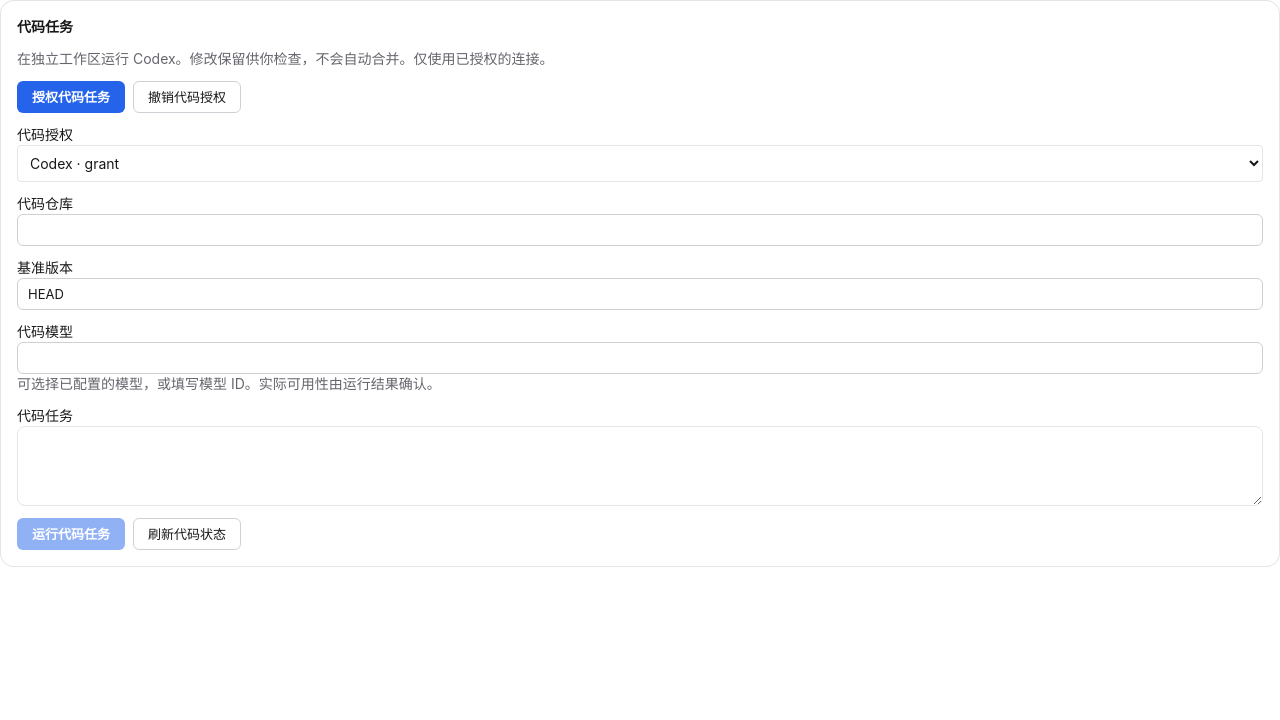
shows actionable rejection for agents.access_denied without claiming a task exists
The width and height of the screenshot is (1280, 720).
Type "/tmp/example" into the field labelled "代码仓库" at (640, 230), box [17,214,1263,246]
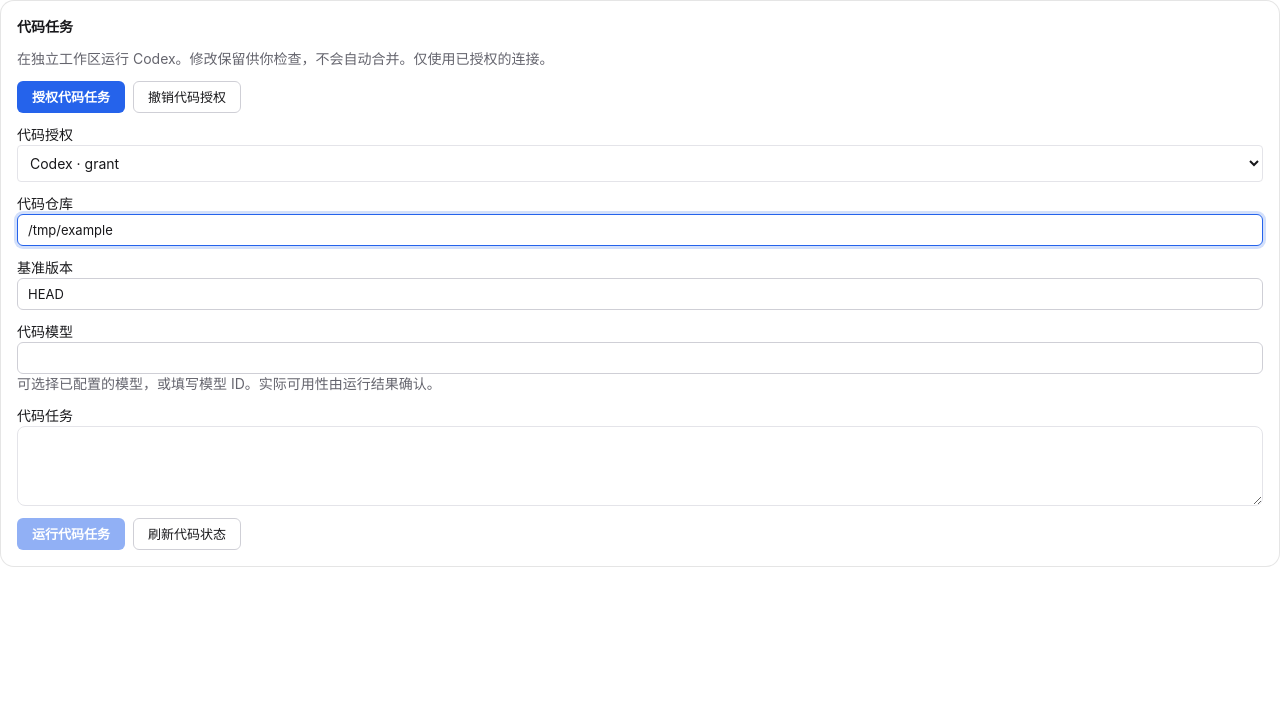
Type "Fix" into the text box labelled "代码任务" at (640, 466), box [17,426,1263,506]
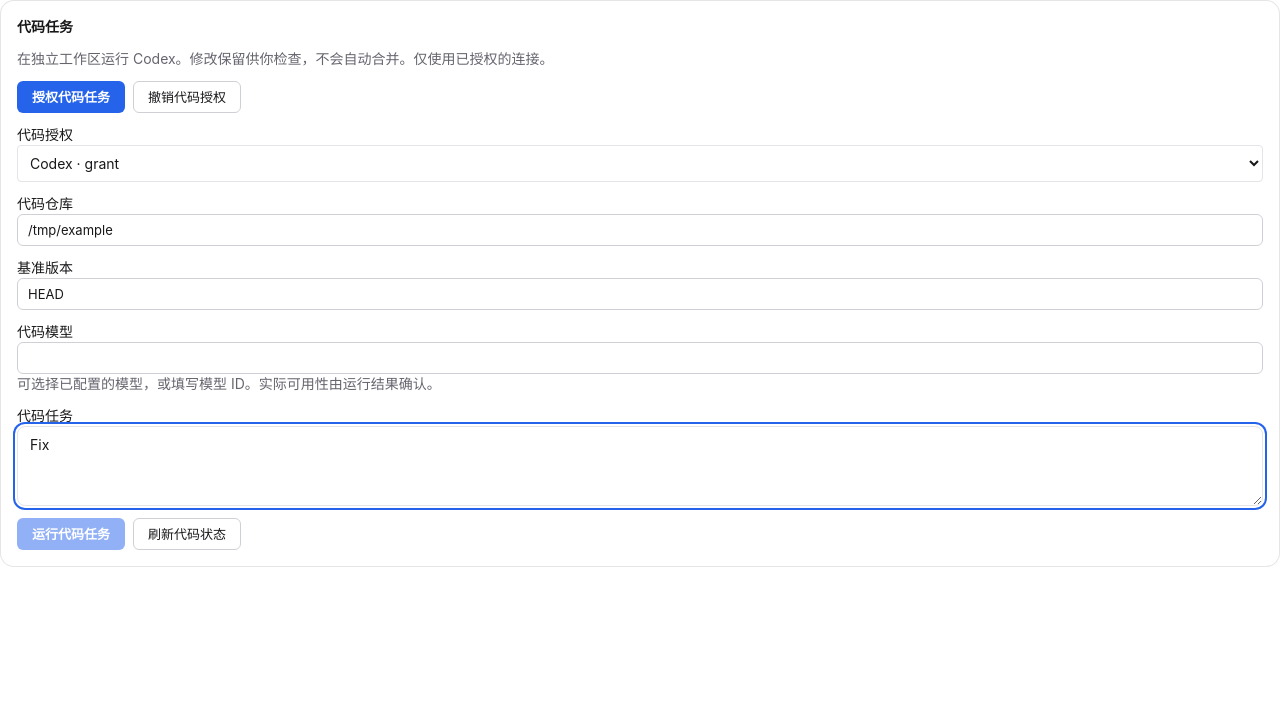
Type "test-model" into the field labelled "代码模型" at (640, 358), box [17,342,1263,374]
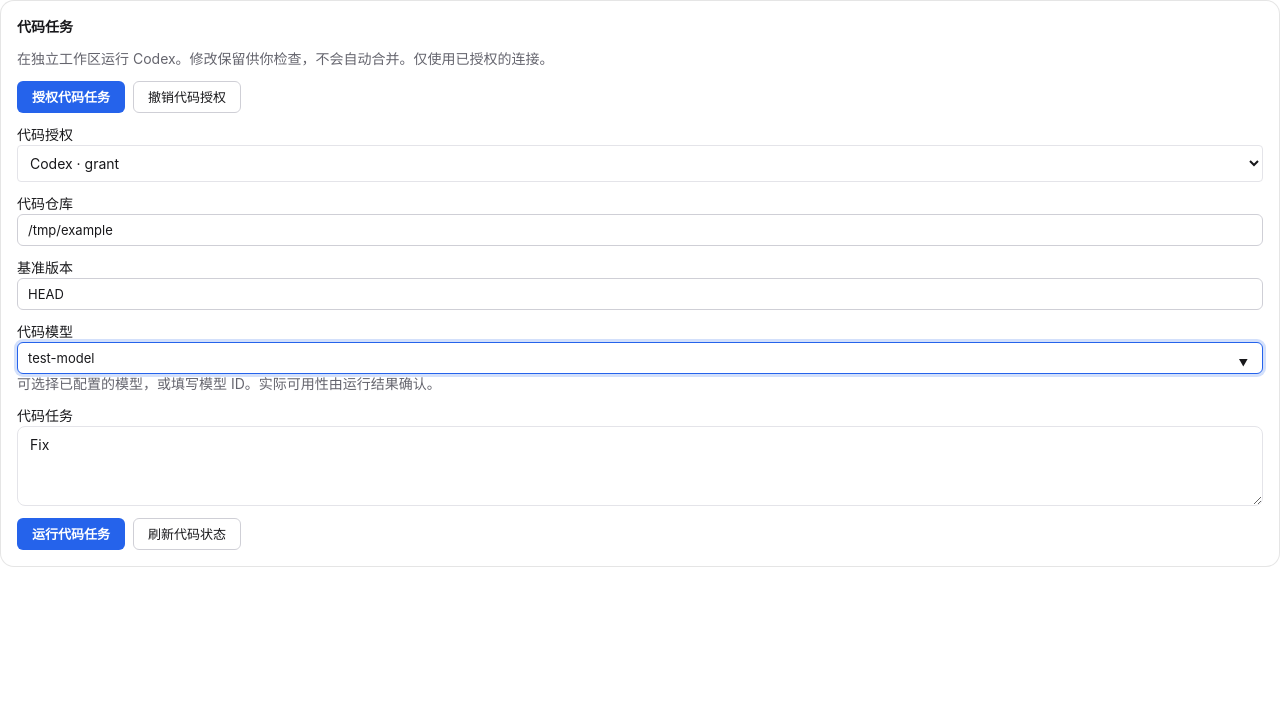
Click the button "运行代码任务" at (71, 534), box [17,518,125,550]
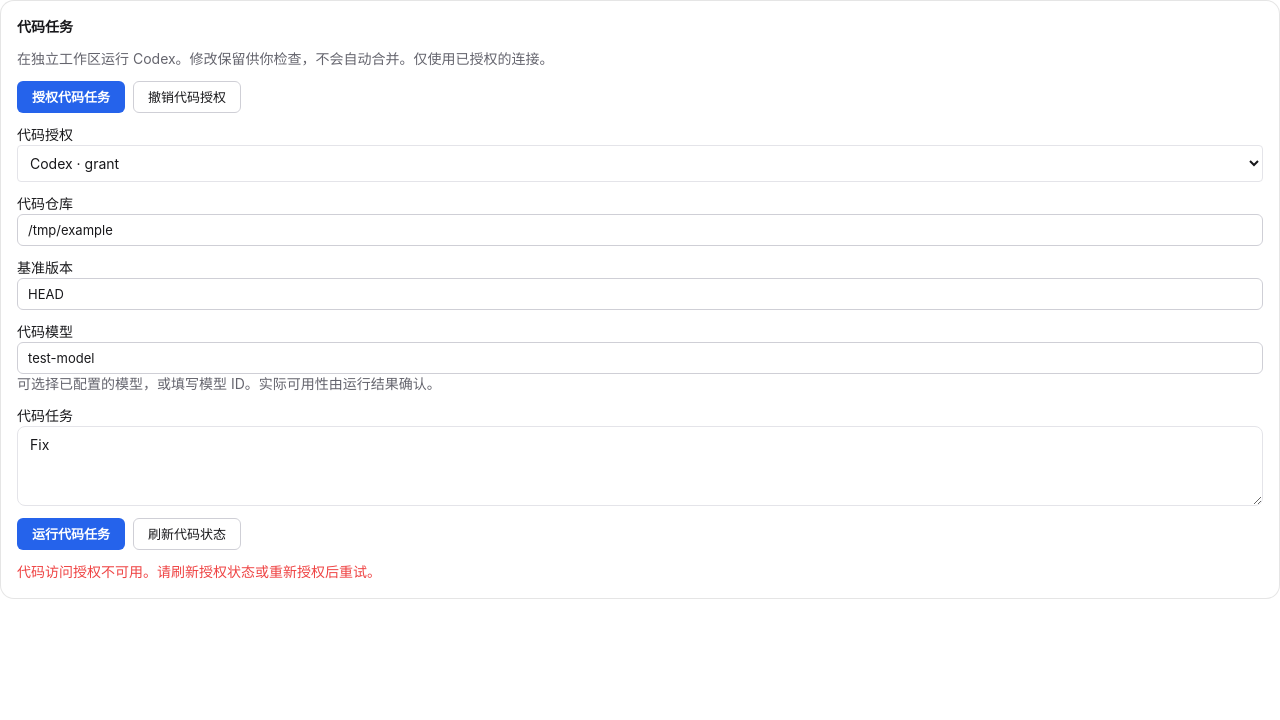
Expected: the message does not show "读取已有任务", [17,563,381,580]
Result: the message shows "重新授权" at [17,563,381,580]
